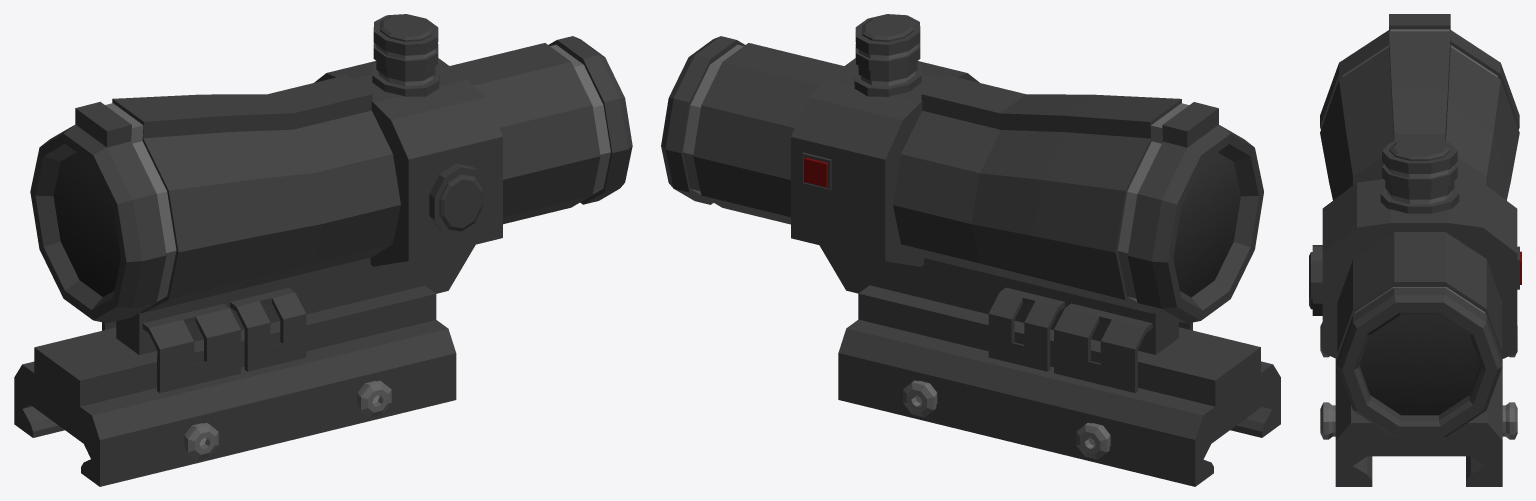
Rendered from Attachment_OpticV1.glb.
3 renders of one model, left to right at view 1: azimuth 30°, elevation 25°; view 2: azimuth 150°, elevation 25°; view 3: azimuth 270°, elevation 25°, orthographic. The views are drawn at different scales.
Parts seen in each view (by area): view 1: Attachment_Optic_V1; view 2: Attachment_Optic_V1; view 3: Attachment_Optic_V1.
Boxes of the visible parts, box(x1,y1,x2,y2) form: Attachment_Optic_V1: box(14, 14, 632, 486); Attachment_Optic_V1: box(661, 14, 1280, 486); Attachment_Optic_V1: box(1309, 14, 1521, 486).
Bounding box in the file's own units: 0.093 × 0.0571 × 0.0328.
1 material, 1 textured.
